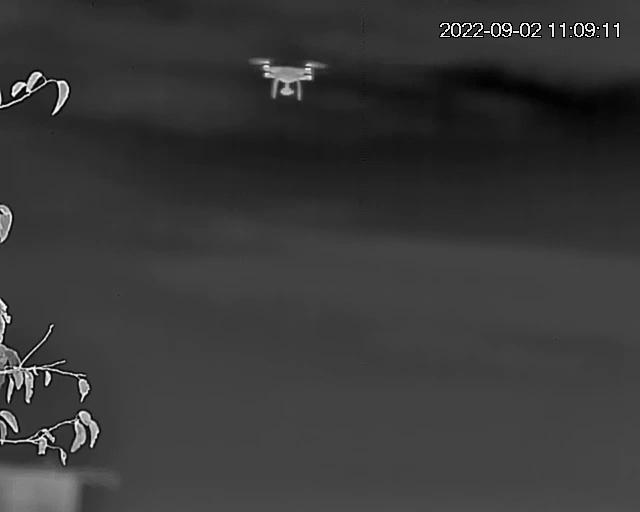DJI-Phantom: (248, 52, 329, 106)
